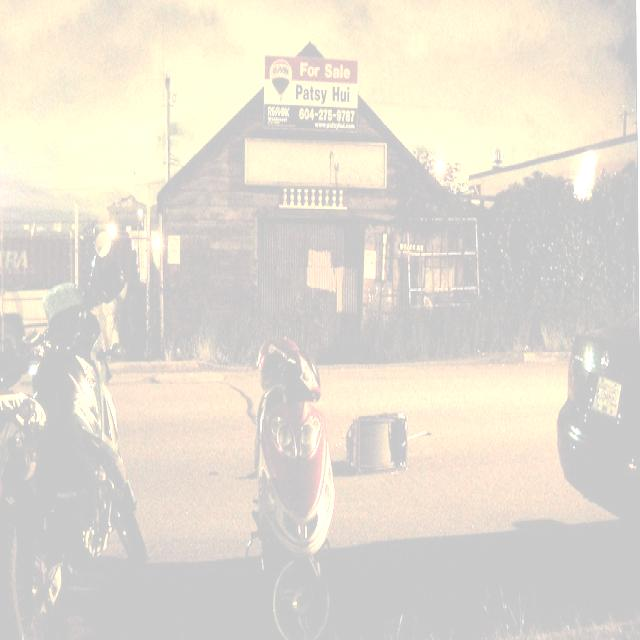Motorbike: (1, 303, 148, 640), (248, 340, 337, 640)
